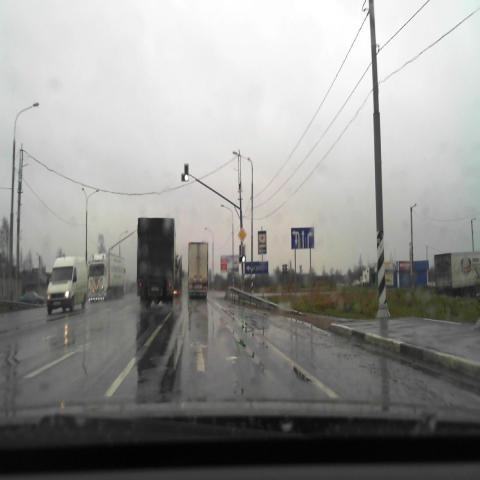5_15_1: (292, 228, 314, 249)
